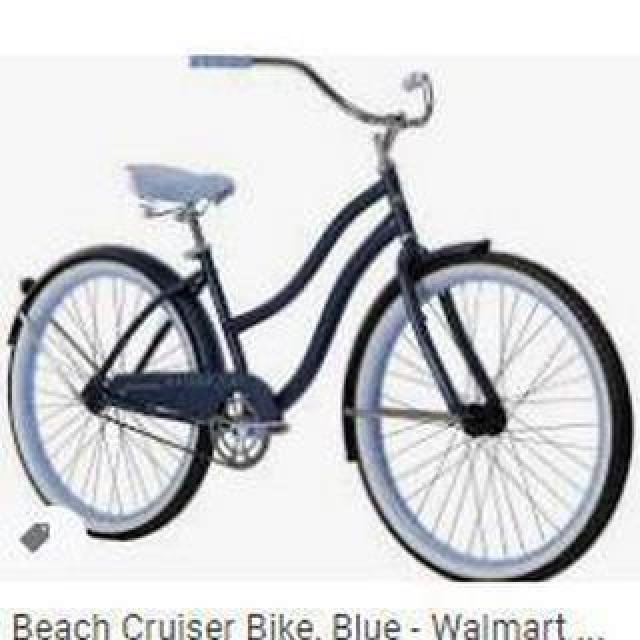Person: (0, 41, 634, 581)
